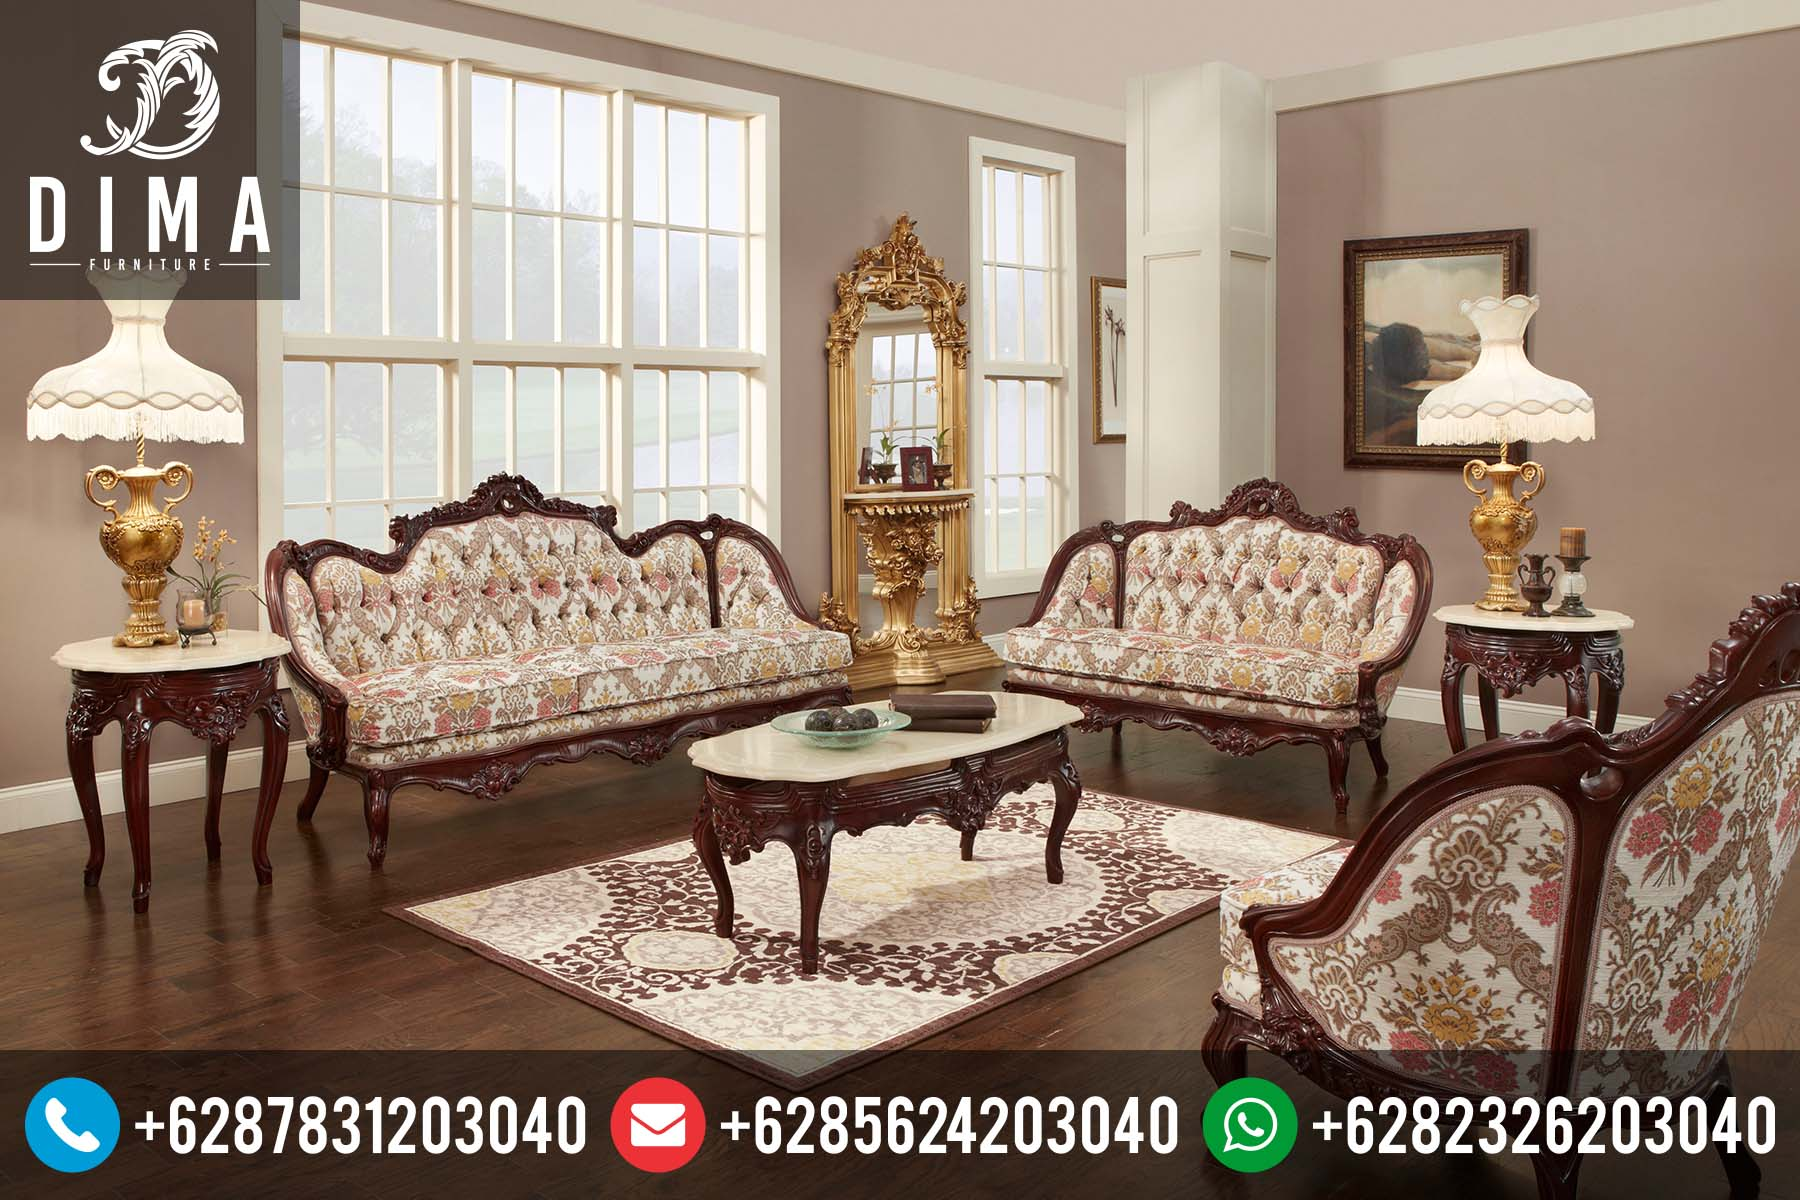Carving Chair: (252, 478, 846, 867), (978, 479, 1417, 834)
Carving Table: (695, 680, 1110, 960)
